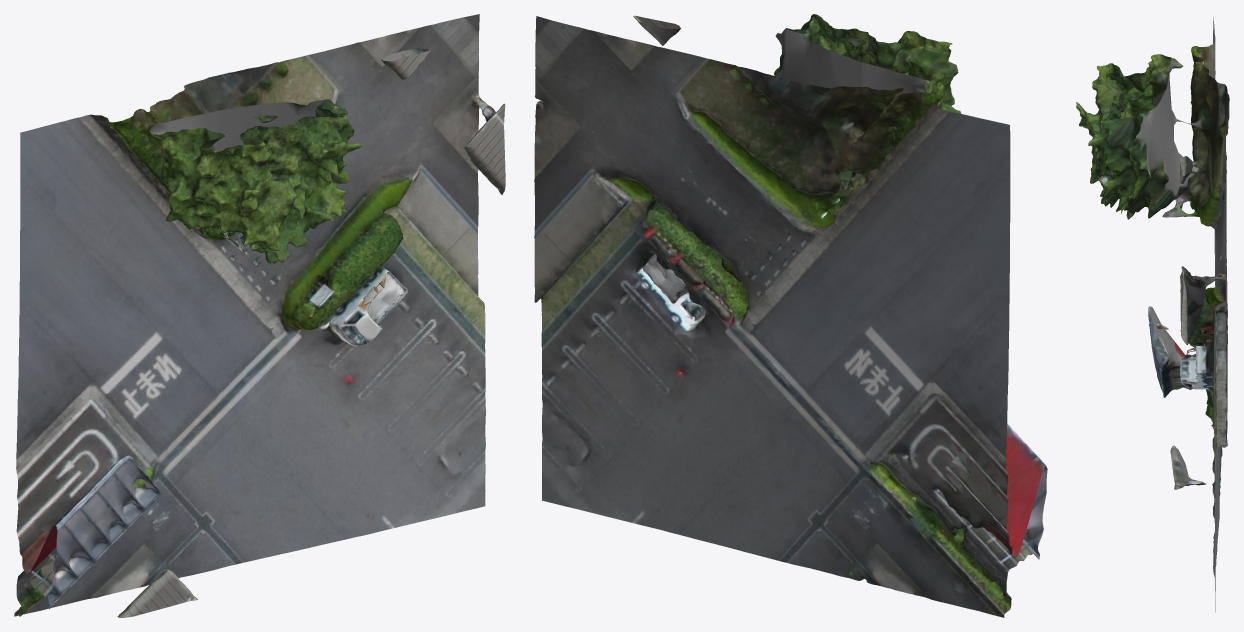
File: Tile_+018_+021.fbx
3 views of the same model, side by side, from view 1: azimuth 30°, elevation 25°; view 2: azimuth 150°, elevation 25°; view 3: azimuth 270°, elevation 25° (orthographic). The views are drawn at different scales.
Visible parts, largest first — view 1: DefaultName; view 2: DefaultName; view 3: DefaultName.
Boxes of the visible parts, x1,y1,x2,y2 form: DefaultName: (14, 14, 505, 617); DefaultName: (534, 14, 1047, 617); DefaultName: (1076, 17, 1229, 612).
Bounding box in the file's own units: 22.54 × 22.54 × 7.62.
